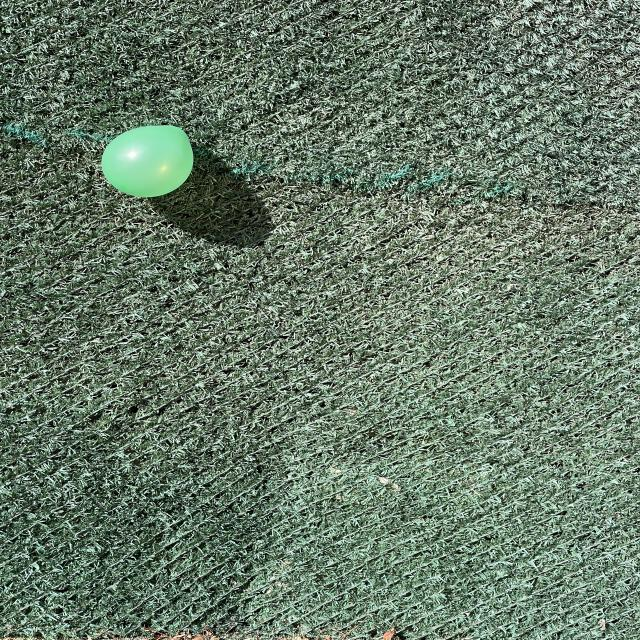balloon: (102, 125, 193, 197)
